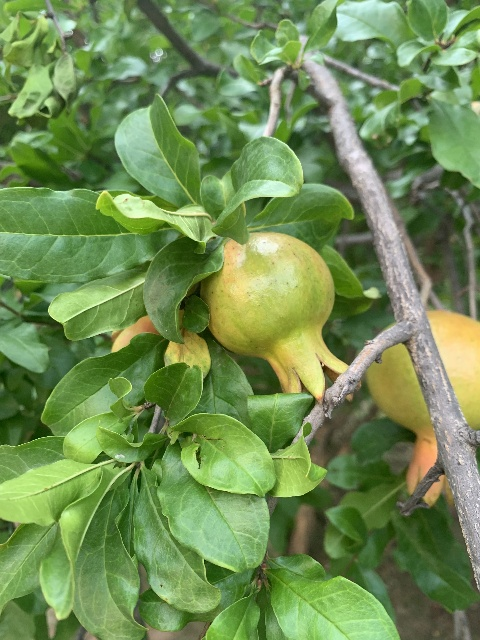early-fruit: (203, 232, 349, 401), (364, 310, 479, 516)
